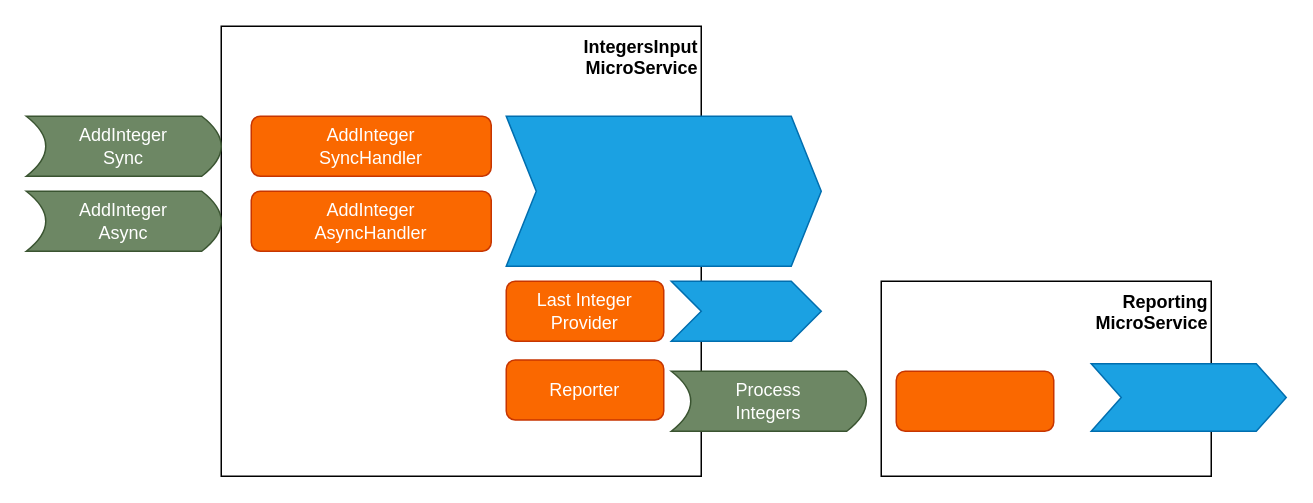
Some shapes in this 1313 by 503 pixel diagram are drawn without their labels. Here are the shapes that lost their labels. From the top down, the centre of each, then its label:
At (663,190): "Integers".
At (745,310): "Last Integer Added".
At (974,400): "ProcessIntegers Handler".
At (1188,396): "Sum".
